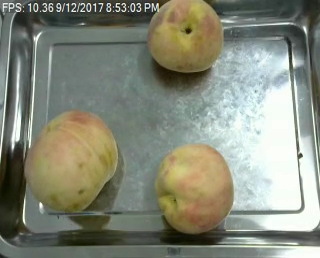Peach: (24, 107, 120, 212), (155, 142, 234, 235), (147, 0, 223, 73)
